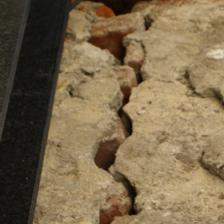Crack: (40, 12, 117, 211)
